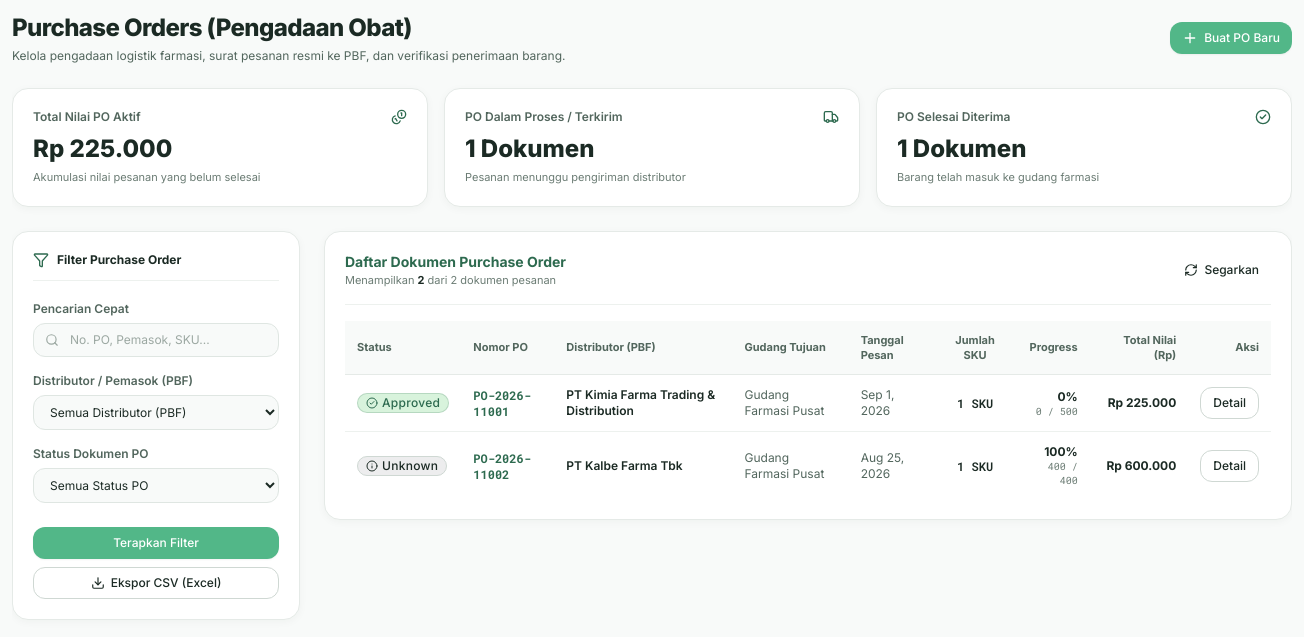
Test: ProcurementList › filters PO rows by supplier and status
Expected: the link "PO-2026-11001" is shown, [473, 387, 531, 419]
Select "PT Kalbe Farma Tbk" in the dropdown labelled "Distributor / Pemasok (PBF)" at (156, 412), box [33, 394, 279, 430]
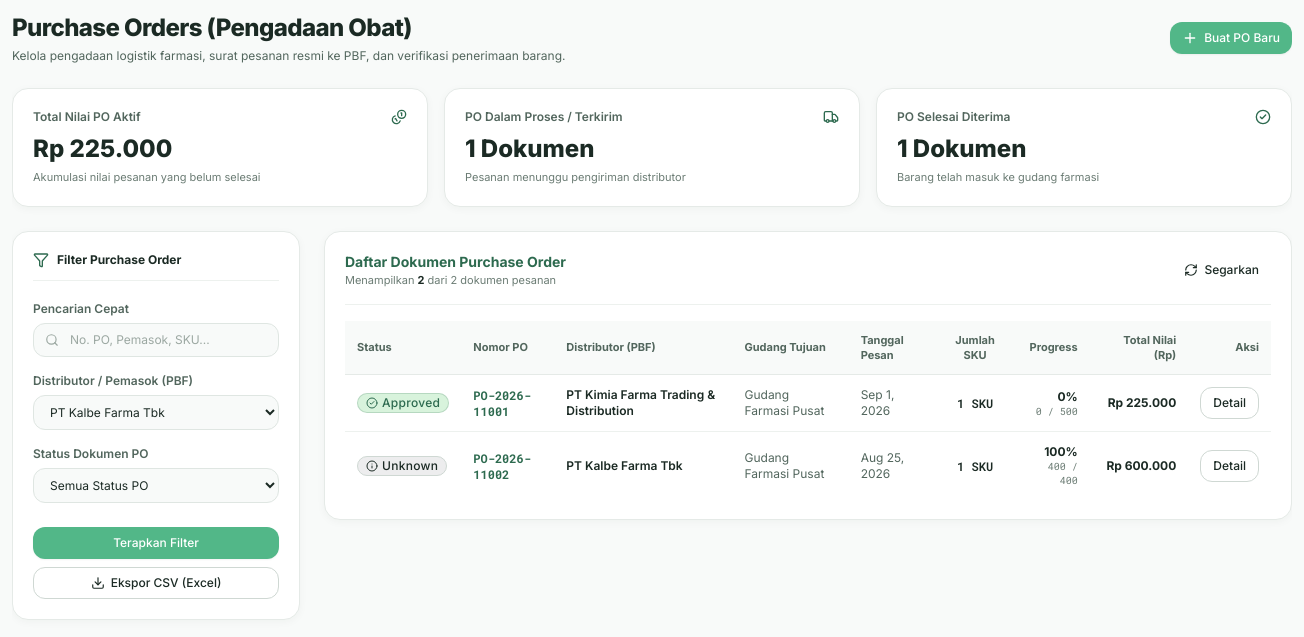
Click the button "Terapkan Filter" at (156, 542), box [33, 526, 279, 558]
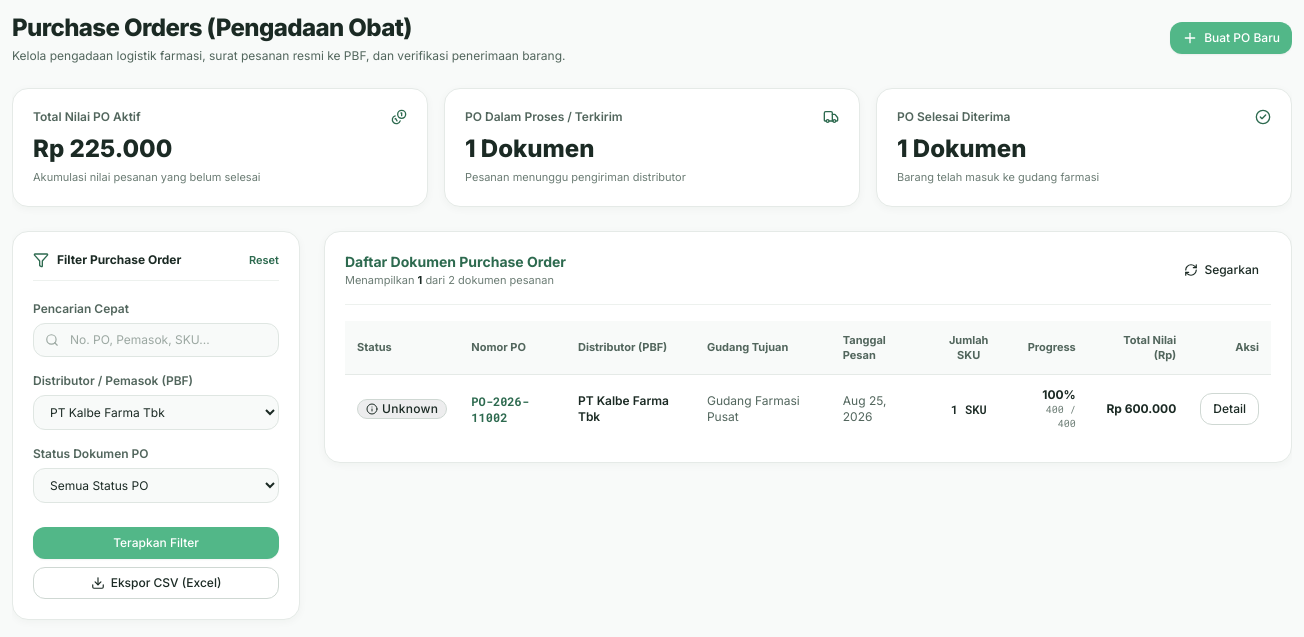
Expected: the link "PO-2026-11002" is shown, [471, 393, 529, 425]
Now the link "PO-2026-11001" is gone
